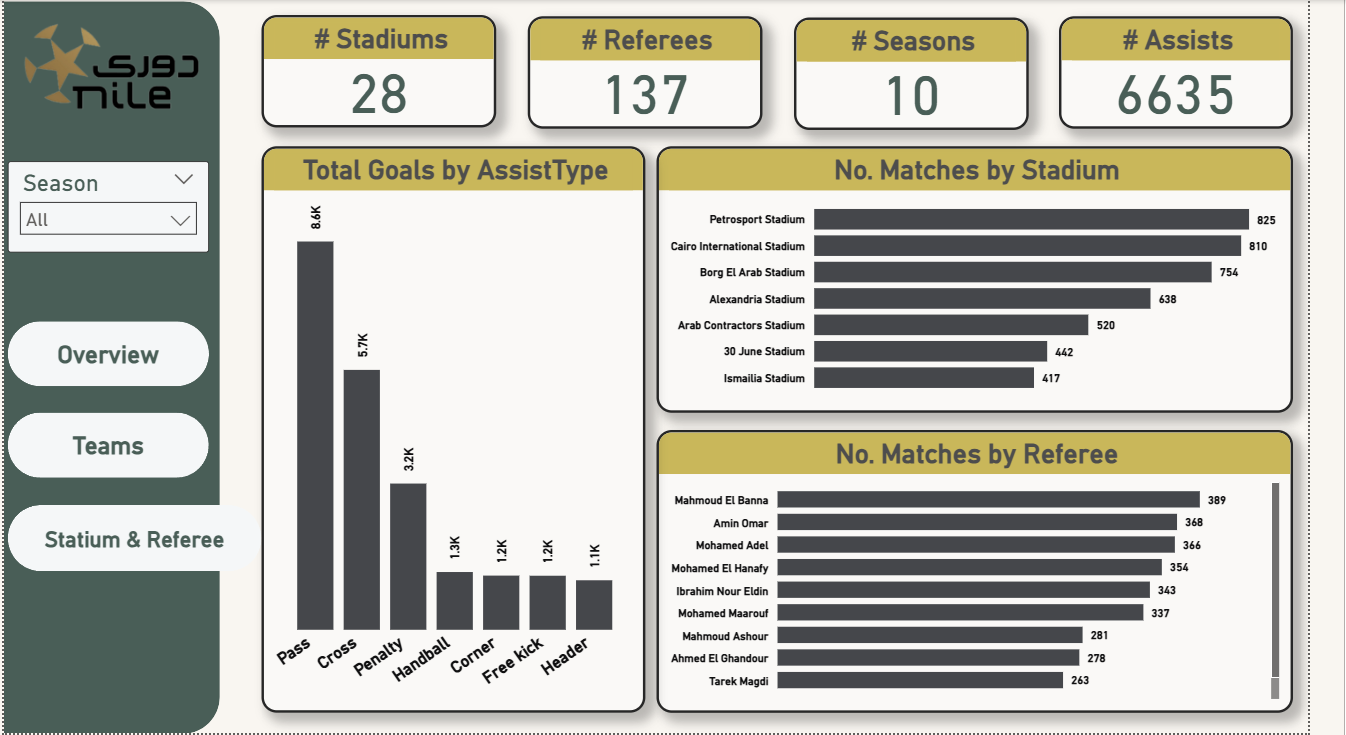

The dashboard page shown, as its layout file describes it:
{"tool":"powerbi","page":{"name":"Stadium & Referee","canvas":[1280,720],"ordinal":2},"visuals":[{"type":"card","title":"# Stadiums","fields":{"Values":["_Measures.No. Stadium"]},"box":[252.8,14.7,230.7,110.4],"z":0},{"type":"barChart","fields":{"Category":["DIm_Stadium.Stadium"],"Y":["_Measures.No. Matches"]},"box":[640.5,143.6,624.5,261.4],"z":1000},{"type":"card","title":"# Referees","fields":{"Values":["_Measures.No. Rereree"]},"box":[514.2,15.8,230,110],"z":2000},{"type":"card","title":"# Seasons","fields":{"Values":["_Measures.No. Seasons"]},"box":[774.9,17.6,230,110],"z":3000},{"type":"barChart","fields":{"Category":["Dim_Referee.Referee"],"Y":["_Measures.No. Matches"]},"box":[640.5,422.1,624.5,277.3],"z":4000},{"type":"columnChart","fields":{"Category":["Dim_AssistantType.AssistType"],"Y":["_Measures.Total Goals"]},"box":[252.8,143.6,376.7,555.8],"z":5000},{"type":"shape","box":[0,1,211.8,719],"z":6000},{"type":"image","box":[14.5,16.9,182.8,95.6],"z":7000},{"type":"slicer","fields":{"Values":["Dim_Season.Season"]},"box":[3.6,158.6,197.3,89.6],"z":8000},{"type":"shape","box":[3.7,315.3,197.5,63.8],"z":9000},{"type":"shape","box":[3.6,405.5,197.3,64.2],"z":10000},{"type":"shape","box":[3.7,495.7,249.1,65],"z":11000},{"type":"card","title":"# Assists ","fields":{"Values":["_Measures.No. Assist"]},"box":[1035.6,16.5,229.4,110.4],"z":12000},{"type":"actionButton","box":[25.8,315.3,152.1,63.8],"z":13000},{"type":"actionButton","box":[25.8,406.1,152.1,63.8],"z":14000},{"type":"actionButton","box":[29.4,495.7,182.8,63.8],"z":15000}]}

Visuals, with their boxes in screenshot pixels (x1, y1, x2, y2):
"# Stadiums" card: BBox(255, 15, 487, 126)
barChart - DIm_Stadium.Stadium x _Measures.No. Matches: BBox(646, 145, 1275, 408)
"# Referees" card: BBox(518, 16, 750, 127)
"# Seasons" card: BBox(781, 18, 1013, 129)
barChart - Dim_Referee.Referee x _Measures.No. Matches: BBox(646, 426, 1275, 705)
columnChart - Dim_AssistantType.AssistType x _Measures.Total Goals: BBox(255, 145, 635, 705)
shape: BBox(0, 1, 214, 726)
image: BBox(15, 17, 199, 113)
slicer - Dim_Season.Season: BBox(4, 160, 203, 250)
shape: BBox(4, 318, 203, 382)
shape: BBox(4, 409, 203, 474)
shape: BBox(4, 500, 255, 565)
"# Assists " card: BBox(1044, 17, 1275, 128)
actionButton: BBox(26, 318, 179, 382)
actionButton: BBox(26, 409, 179, 474)
actionButton: BBox(30, 500, 214, 564)
